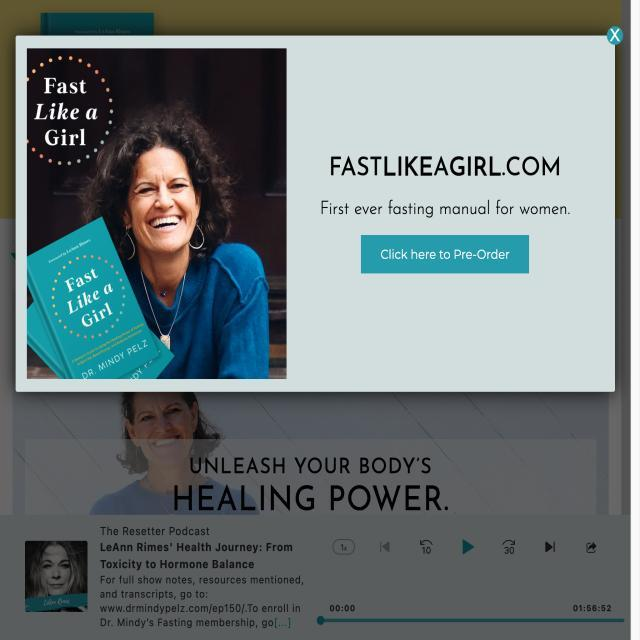modal: (6, 29, 625, 401)
